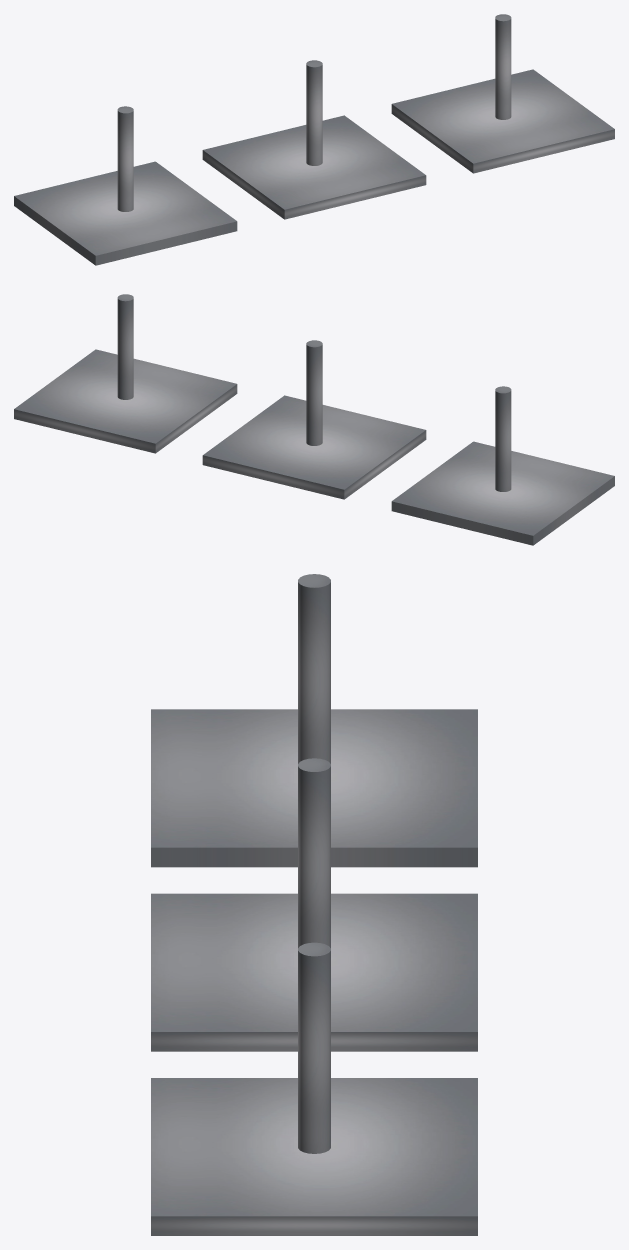
Rendered from BaseFinal.obj.
The picture shows the model from 3 angles, top to bottom: view 1: azimuth 30°, elevation 25°; view 2: azimuth 150°, elevation 25°; view 3: azimuth 270°, elevation 25°; orthographic projection. The views are drawn at different scales.
Parts seen in each view (by area): view 1: Box001, Box002, Box003, Cylinder002, Cylinder001, Cylinder003; view 2: Box001, Box002, Box003, Cylinder002, Cylinder001, Cylinder003; view 3: Box002, Box001, Box003, Cylinder002, Cylinder001, Cylinder003.
Boxes of the visible parts, x1,y1,x2,y2 form: Box001: [202, 115, 426, 219]; Box002: [391, 69, 614, 173]; Box003: [14, 161, 237, 265]; Cylinder002: [495, 14, 511, 119]; Cylinder001: [306, 60, 322, 165]; Cylinder003: [117, 106, 133, 211]; Box001: [202, 395, 426, 499]; Box002: [14, 349, 237, 453]; Box003: [391, 441, 614, 545]; Cylinder002: [117, 294, 133, 399]; Cylinder001: [306, 340, 322, 445]; Cylinder003: [495, 386, 511, 491]; Box002: [151, 1078, 477, 1235]; Box001: [151, 893, 477, 1051]; Box003: [151, 709, 477, 867]; Cylinder002: [298, 942, 330, 1153]; Cylinder001: [298, 758, 330, 947]; Cylinder003: [298, 574, 330, 763].
Bounding box in the file's own units: 110 × 22 × 30.
Materials: 1 (1 with a texture image).
